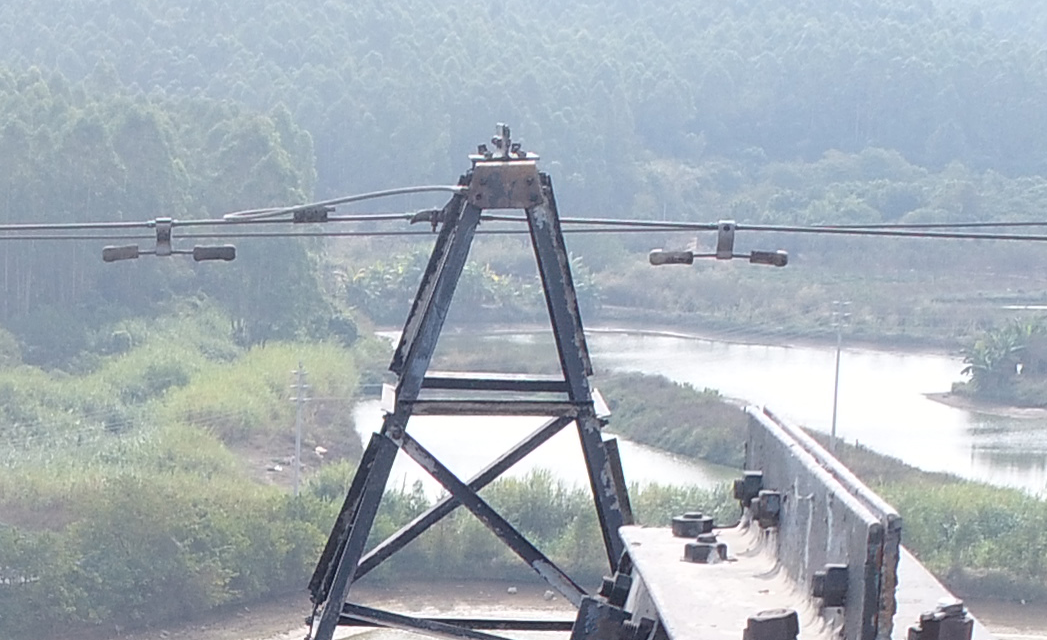damper: (647, 218, 791, 270), (99, 215, 238, 264)
